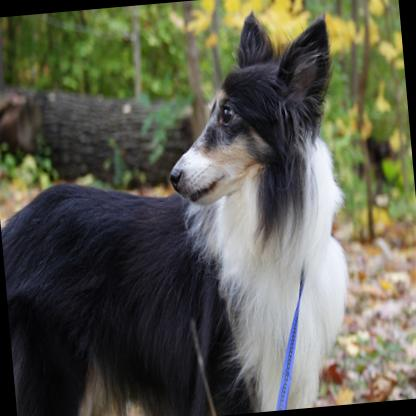Shetland_sheepdog: (0, 0, 362, 416)
